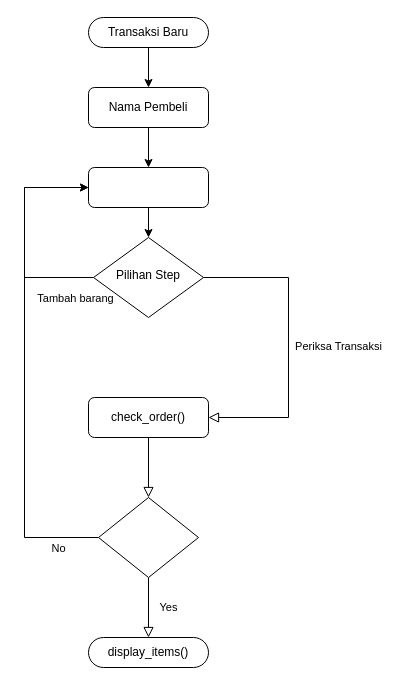
Image size: 399x685. Some labels were removed from this diagram. The shapes that lost their labels are listed below. From the top down, each one's box as (x1, y1, x2, y2) in pixels, then its label:
(88, 166, 208, 208): add_item()
(98, 496, 198, 578): Tampilkan transaksi
